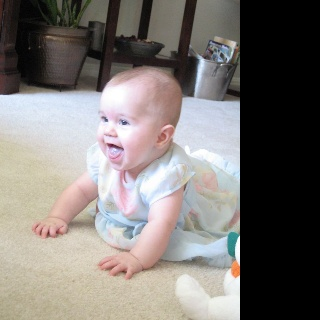without_mask: (97, 89, 154, 171)
